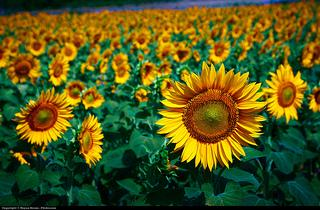sunflower: (156, 62, 266, 169), (15, 87, 72, 146), (263, 64, 309, 119), (78, 115, 103, 164), (8, 54, 41, 86), (50, 52, 69, 86), (210, 41, 230, 61), (84, 87, 103, 108), (141, 62, 157, 85), (115, 64, 130, 83)
